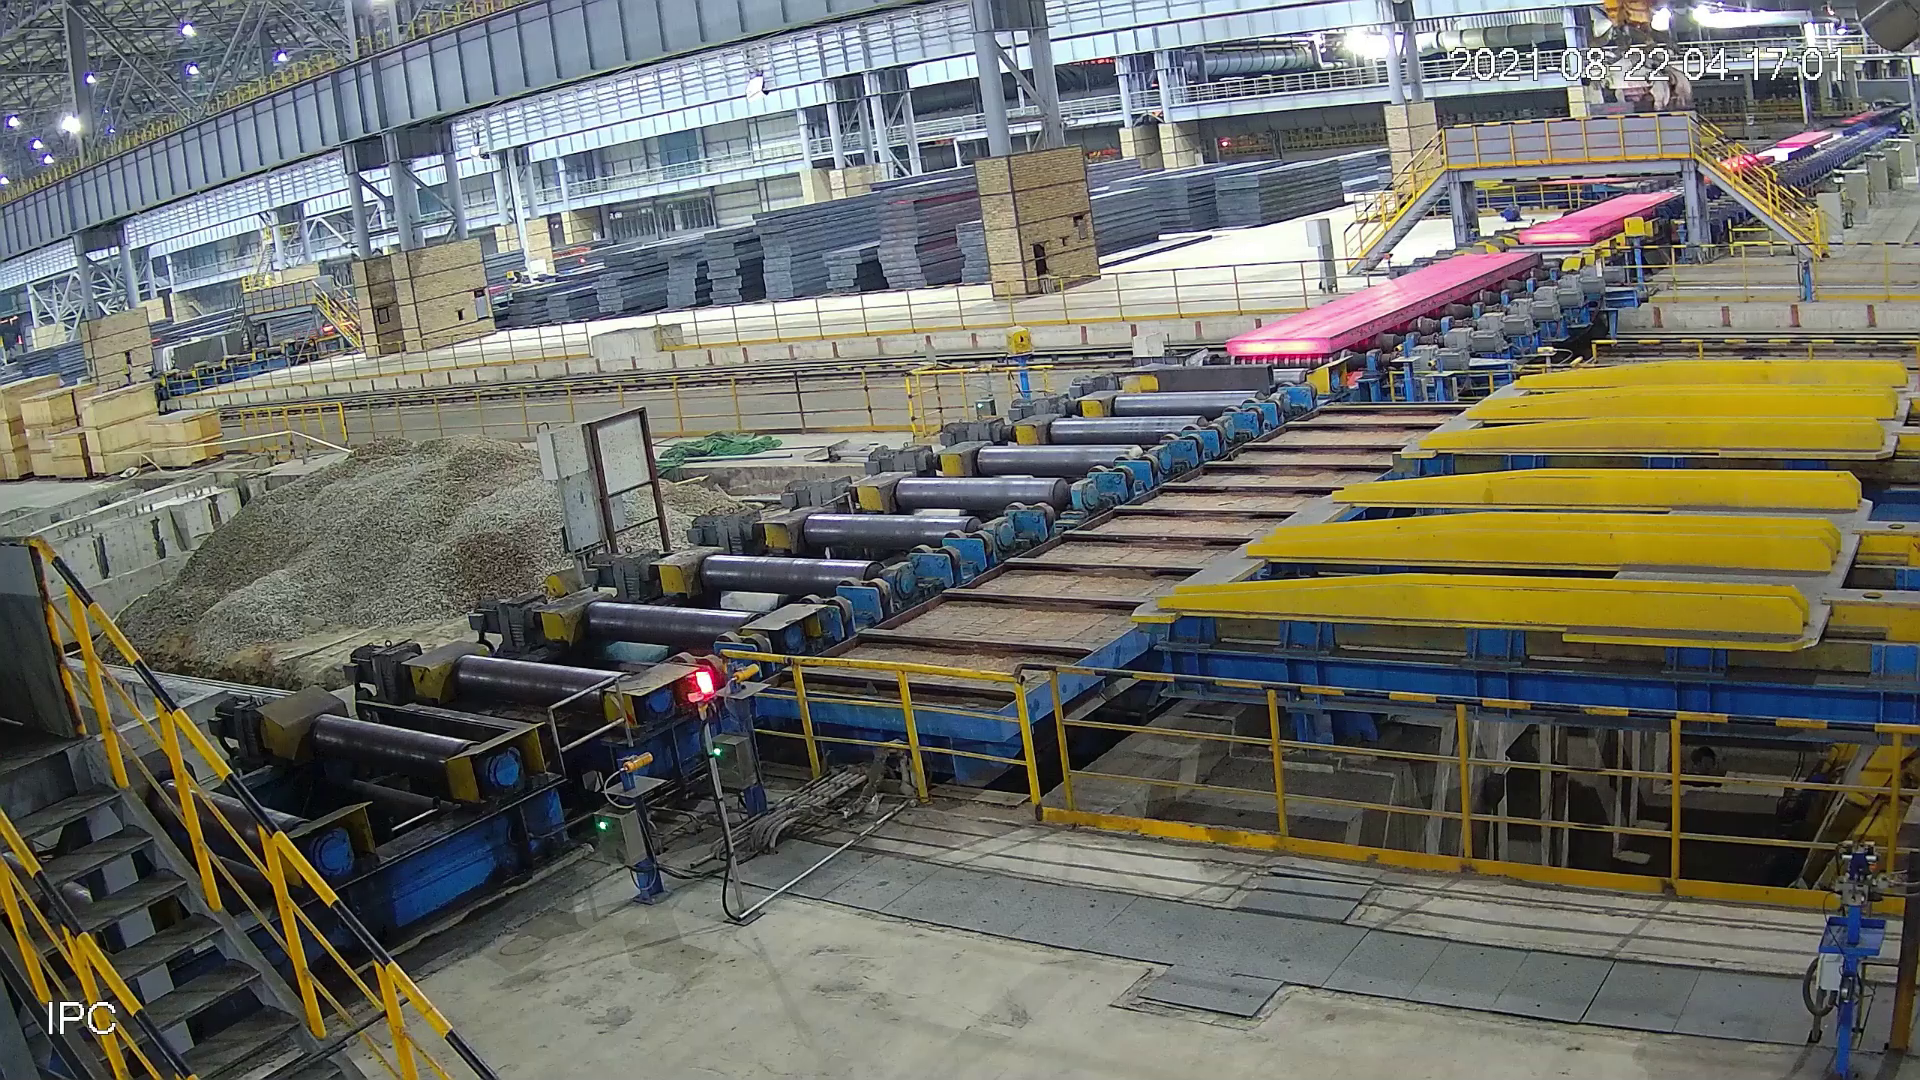craneandslab: (1577, 1, 1702, 127)
slab: (1226, 252, 1535, 357), (1518, 189, 1687, 243)
